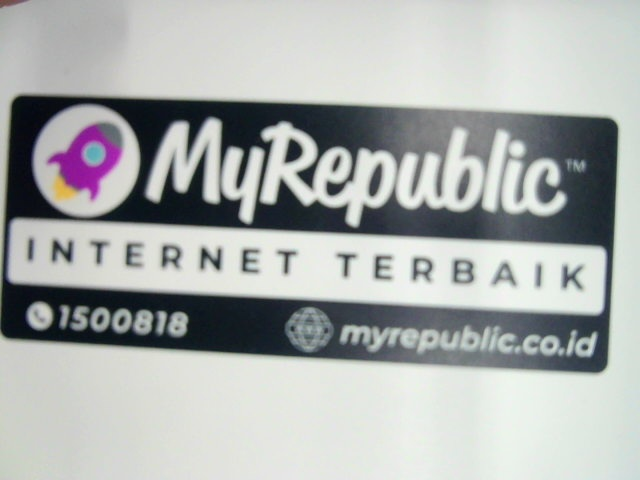BD_MyRepublic: (7, 90, 618, 371)
